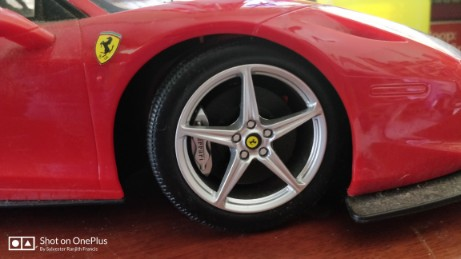unaligned_wheel: (132, 38, 352, 237)
